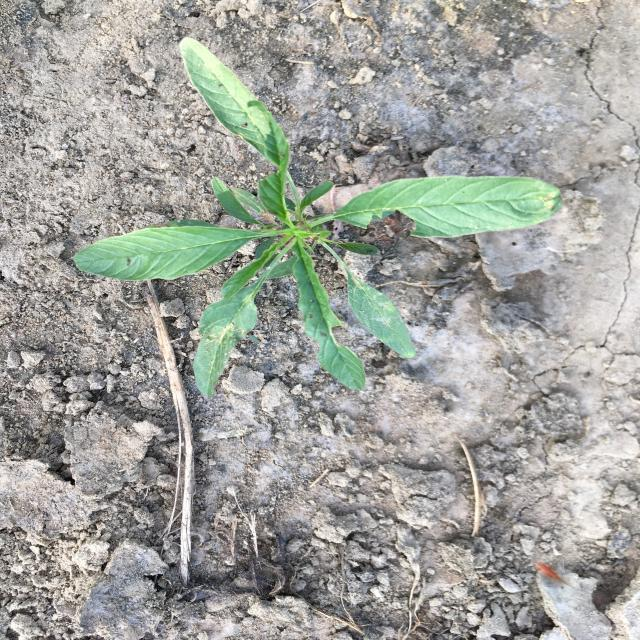Waterhemp: (73, 37, 563, 398)
